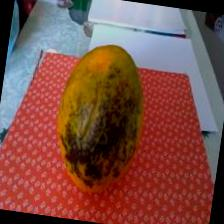Orange Rotten: (40, 30, 164, 206)
